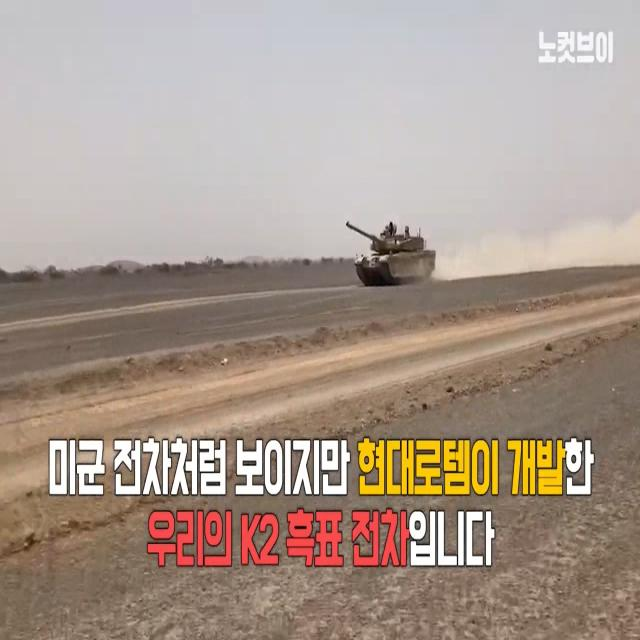korea tank: (346, 219, 437, 286)
